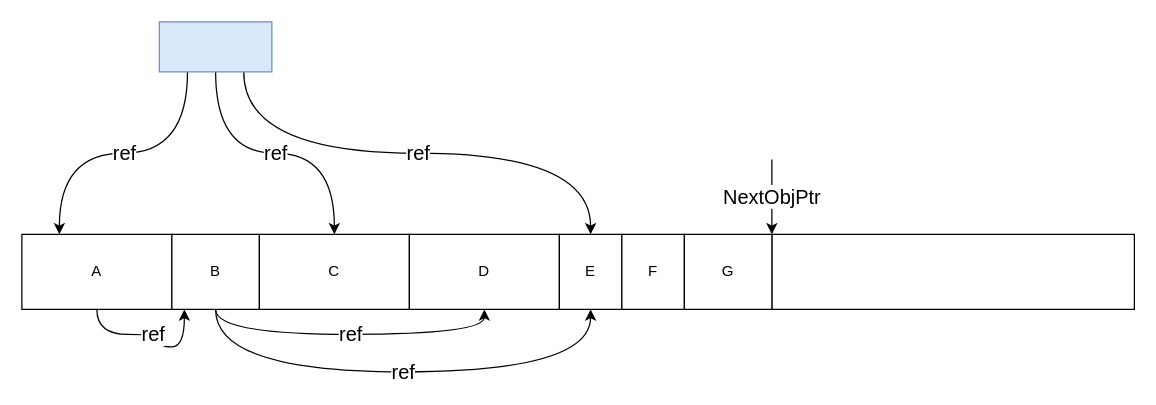
This 1156x405 diagram has some shape labels left out. The centre of each missing label's shape, as x and y in pixels:
"Unuse space" goes at [952,271].
"VM stack" goes at [215,46].
